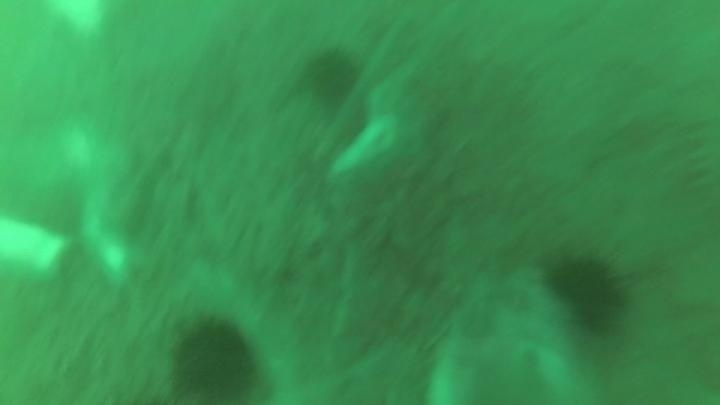echinus: (168, 316, 261, 403), (544, 251, 630, 336), (302, 45, 363, 108)
